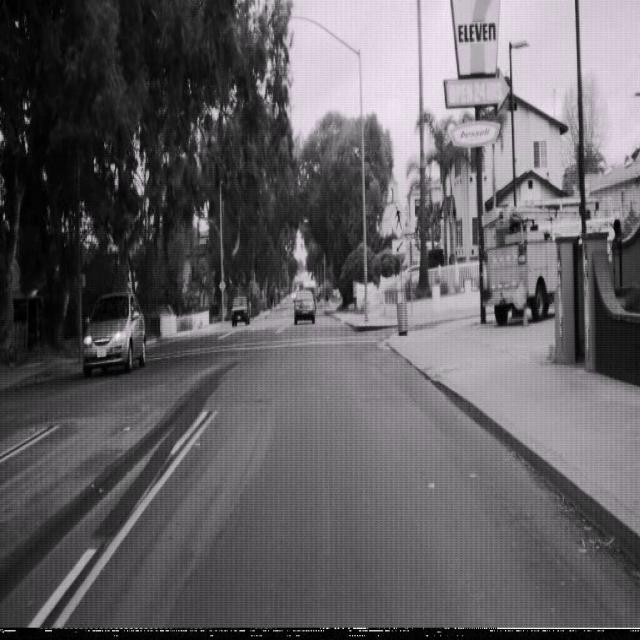pedestrianCrossing: (387, 197, 407, 238)
